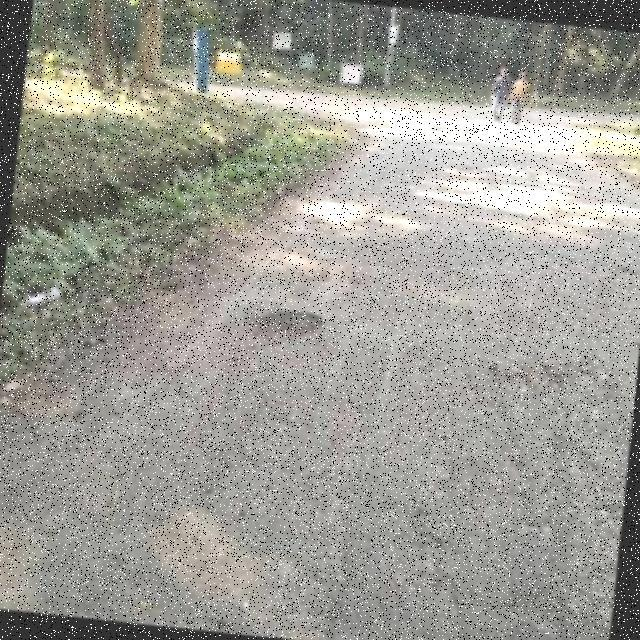Pothole: (247, 311, 323, 346)
